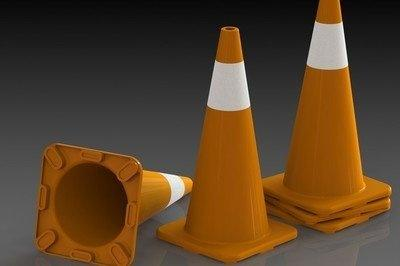cone_barrel: (176, 27, 273, 258), (275, 0, 378, 213), (29, 141, 190, 265)
